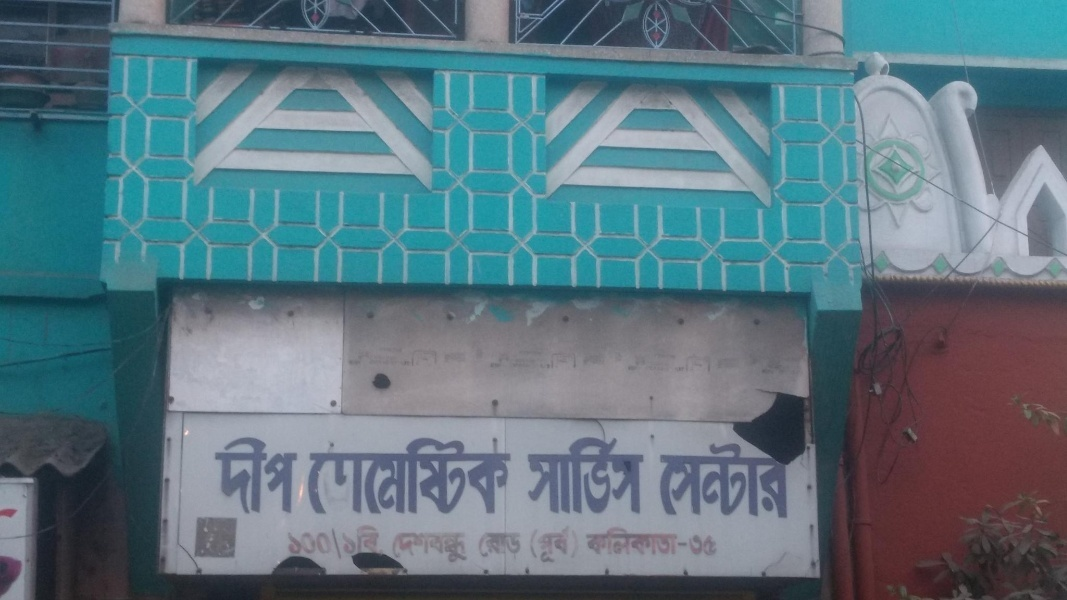text: (529, 429, 544, 524), (545, 429, 560, 524), (561, 429, 576, 524), (577, 429, 592, 524), (593, 429, 608, 524), (609, 429, 624, 524), (625, 429, 640, 524), (225, 434, 240, 519), (241, 434, 256, 519), (257, 434, 272, 519), (273, 434, 288, 519), (321, 437, 336, 515), (337, 437, 352, 515), (353, 437, 368, 515), (369, 437, 384, 515), (385, 437, 400, 515), (401, 437, 416, 515), (417, 437, 432, 515), (433, 437, 448, 515), (449, 437, 464, 515), (465, 437, 480, 515), (481, 437, 496, 515), (497, 437, 512, 515), (673, 441, 688, 519), (689, 441, 704, 519), (705, 441, 720, 519), (721, 441, 736, 519), (737, 441, 752, 519), (753, 441, 768, 519), (769, 441, 784, 519), (289, 434, 301, 519), (660, 441, 672, 519), (213, 434, 224, 519), (309, 437, 320, 515), (520, 429, 528, 524), (641, 429, 648, 524), (545, 521, 560, 565), (289, 519, 304, 561), (305, 519, 320, 561), (321, 519, 336, 561), (337, 519, 352, 561), (353, 519, 368, 561), (369, 519, 384, 561), (593, 516, 608, 558), (609, 516, 624, 558), (625, 516, 640, 558), (641, 516, 656, 558), (657, 516, 672, 558), (673, 516, 688, 558), (529, 524, 544, 564), (545, 524, 560, 564), (561, 524, 576, 564), (401, 527, 416, 564), (417, 527, 432, 564), (433, 527, 448, 564), (449, 527, 464, 564), (561, 521, 573, 565), (580, 516, 592, 558), (481, 530, 496, 558), (497, 530, 512, 558), (785, 441, 790, 519), (689, 532, 704, 558), (705, 532, 720, 558), (520, 524, 528, 564), (513, 530, 524, 558), (392, 527, 400, 564), (282, 519, 288, 561), (577, 524, 583, 564), (539, 521, 544, 565), (513, 437, 515, 515), (476, 530, 480, 558), (385, 519, 387, 561), (721, 532, 723, 558), (689, 516, 690, 558), (465, 527, 466, 564)
